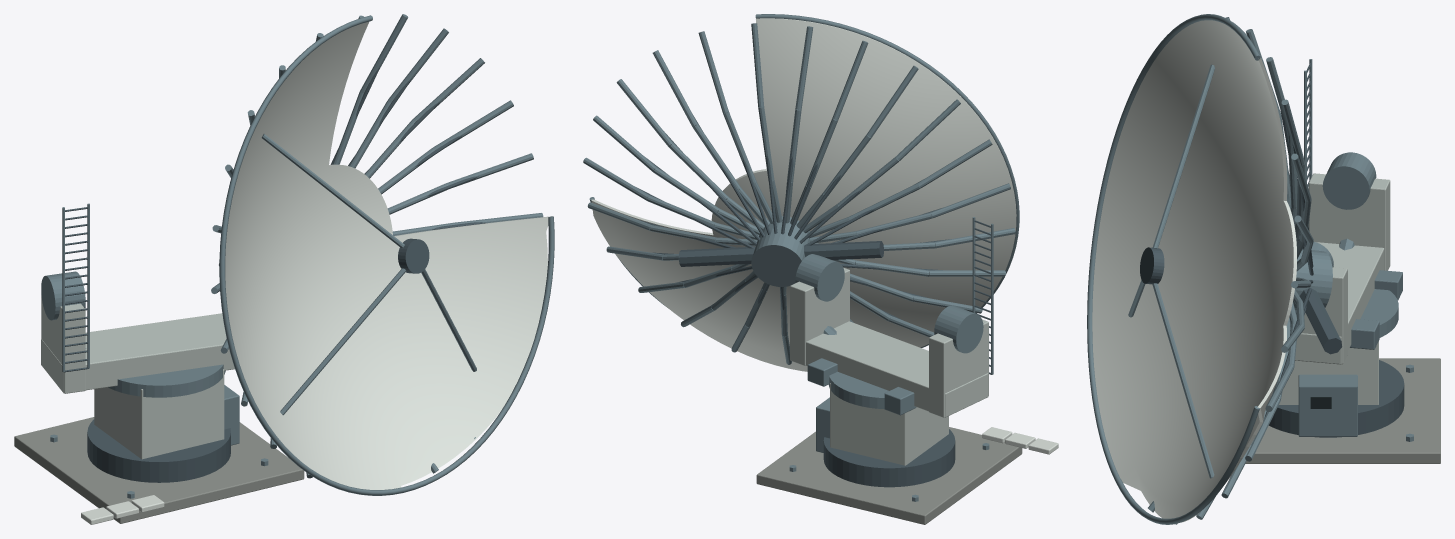
Rendered from skyward_high_d3.glb.
3 views of the same model, side by side, from view 1: azimuth 30°, elevation 25°; view 2: azimuth 150°, elevation 25°; view 3: azimuth 270°, elevation 25° (orthographic). The views are drawn at different scales.
Parts seen in each view (by area): view 1: REFLECTOR_SURFACE.011, Geometry_ELEVATION.011_Structural frame / blue steel, Concrete octagonal pad.011, Geometry_AZIMUTH.011_Ceramic armor / limestone, Pedestal.011, Geometry_AZIMUTH.011_Structural frame / blue steel, Foundation bearing.011, Geometry_ELEVATION.011_Edge metal / graphite, Geometry_ROOT.011_Reflector / warm ceramic, Geometry_AZIMUTH.011_Edge metal / graphite, Geometry_ROOT.011_Structural frame / blue steel; view 2: REFLECTOR_SURFACE.011, Geometry_ELEVATION.011_Structural frame / blue steel, Geometry_AZIMUTH.011_Ceramic armor / limestone, Concrete octagonal pad.011, Geometry_ELEVATION.011_Edge metal / graphite, Geometry_AZIMUTH.011_Structural frame / blue steel, Pedestal.011, Foundation bearing.011, Geometry_ROOT.011_Reflector / warm ceramic, Geometry_ROOT.011_Structural frame / blue steel, Geometry_AZIMUTH.011_Edge metal / graphite; view 3: REFLECTOR_SURFACE.011, Geometry_ELEVATION.011_Structural frame / blue steel, Geometry_AZIMUTH.011_Ceramic armor / limestone, Concrete octagonal pad.011, Geometry_AZIMUTH.011_Structural frame / blue steel, Geometry_ROOT.011_Structural frame / blue steel, Foundation bearing.011, Geometry_ELEVATION.011_Edge metal / graphite, Pedestal.011.
Part boxes in pixels (x1,y1,x2,y2): REFLECTOR_SURFACE.011: (225,22,550,489); Geometry_ELEVATION.011_Structural frame / blue steel: (211,14,554,495); Concrete octagonal pad.011: (14,417,304,523); Geometry_AZIMUTH.011_Ceramic armor / limestone: (41,283,234,393); Pedestal.011: (94,369,224,459); Geometry_AZIMUTH.011_Structural frame / blue steel: (41,203,225,397); Foundation bearing.011: (87,419,230,482); Geometry_ELEVATION.011_Edge metal / graphite: (219,67,485,273); Geometry_ROOT.011_Reflector / warm ceramic: (81,495,164,524); Geometry_AZIMUTH.011_Edge metal / graphite: (64,207,88,372); Geometry_ROOT.011_Structural frame / blue steel: (50,385,268,498); REFLECTOR_SURFACE.011: (591,18,1016,371); Geometry_ELEVATION.011_Structural frame / blue steel: (583,14,1019,364); Geometry_AZIMUTH.011_Ceramic armor / limestone: (790,267,988,417); Concrete octagonal pad.011: (756,427,1022,524); Geometry_ELEVATION.011_Edge metal / graphite: (636,112,949,322); Geometry_AZIMUTH.011_Structural frame / blue steel: (795,217,993,415); Pedestal.011: (830,383,948,465); Foundation bearing.011: (823,429,955,487); Geometry_ROOT.011_Reflector / warm ceramic: (982,427,1058,454); Geometry_ROOT.011_Structural frame / blue steel: (789,397,989,501); Geometry_AZIMUTH.011_Edge metal / graphite: (974,220,991,374); REFLECTOR_SURFACE.011: (1092,20,1296,522); Geometry_ELEVATION.011_Structural frame / blue steel: (1087,14,1332,524); Geometry_AZIMUTH.011_Ceramic armor / limestone: (1295,173,1390,364); Concrete octagonal pad.011: (1245,358,1440,463); Geometry_AZIMUTH.011_Structural frame / blue steel: (1304,59,1402,349); Geometry_ROOT.011_Structural frame / blue steel: (1298,364,1413,441); Foundation bearing.011: (1269,360,1404,437); Geometry_ELEVATION.011_Edge metal / graphite: (1140,109,1342,418); Pedestal.011: (1279,341,1378,404).
Bounding box in the file's own units: 21.16 × 17.89 × 12.57.
